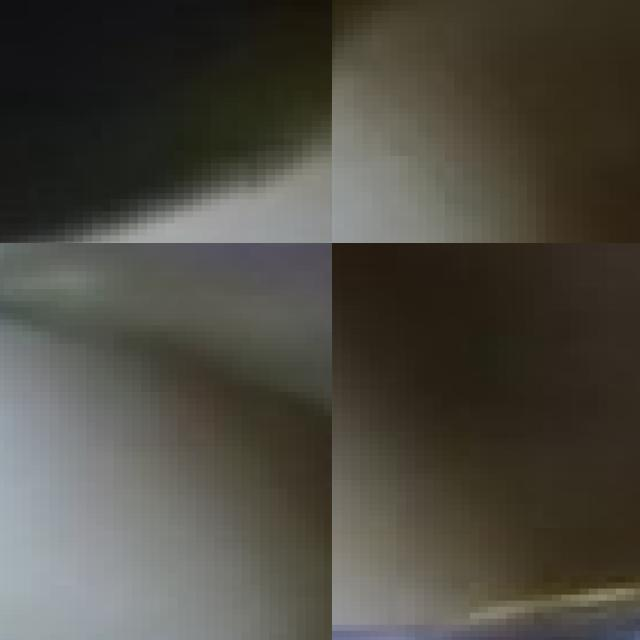fish: (0, 0, 332, 243), (332, 522, 640, 640)
